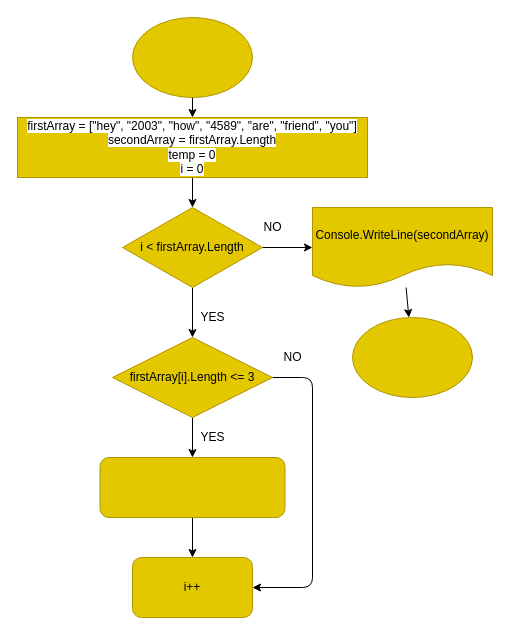
Image size: 510x635. Some labels were removed from this diagram. The box of each missing label's shape, as (x1, y1, x2, y2) in pixels:
END: (352, 316, 472, 398)
secondArray[temp] = firstArray[i]; temp++;: (99, 456, 285, 518)
Start: (132, 16, 252, 98)
